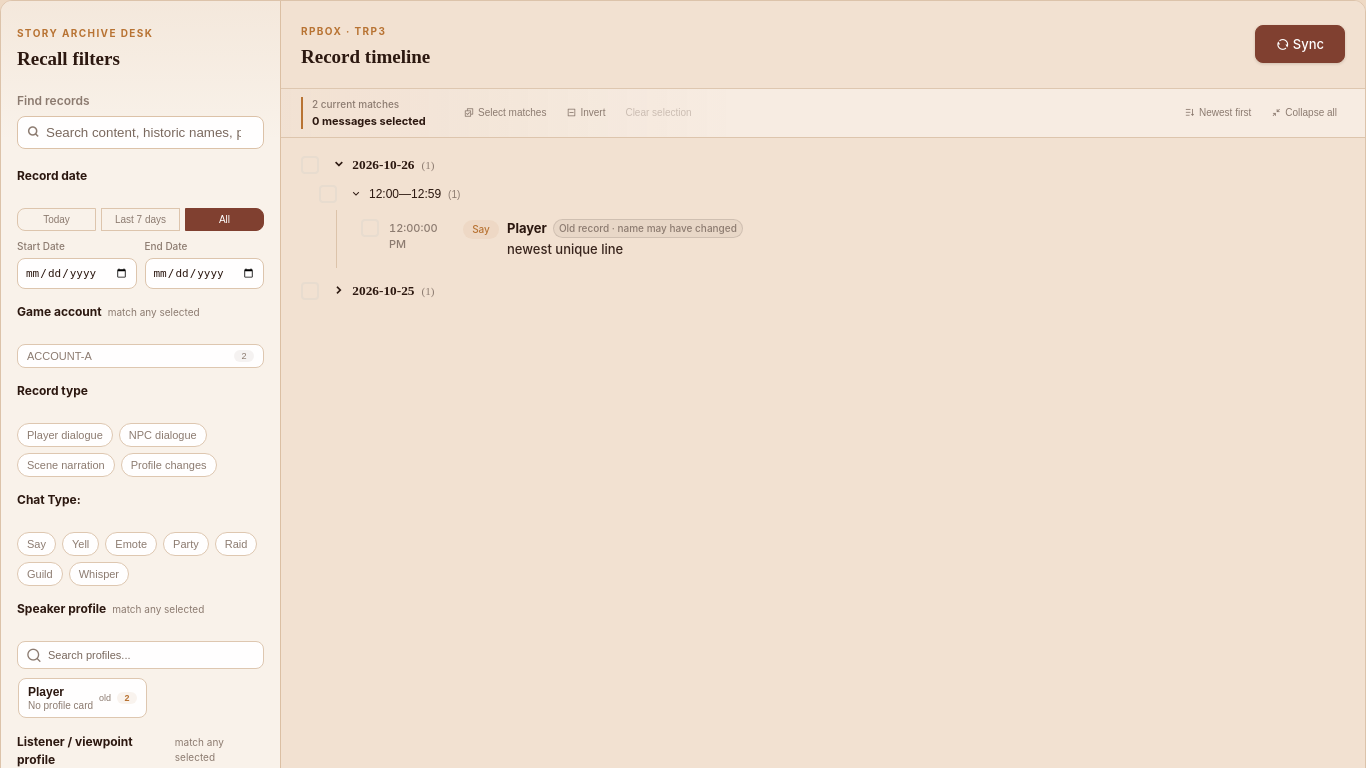
Test: StagingPool › keeps groups collapsed until a filter opens only its first match
The width and height of the screenshot is (1366, 768).
Click the button "Newest first" at (1218, 113), box x1=1177 y1=101 x2=1259 y2=125
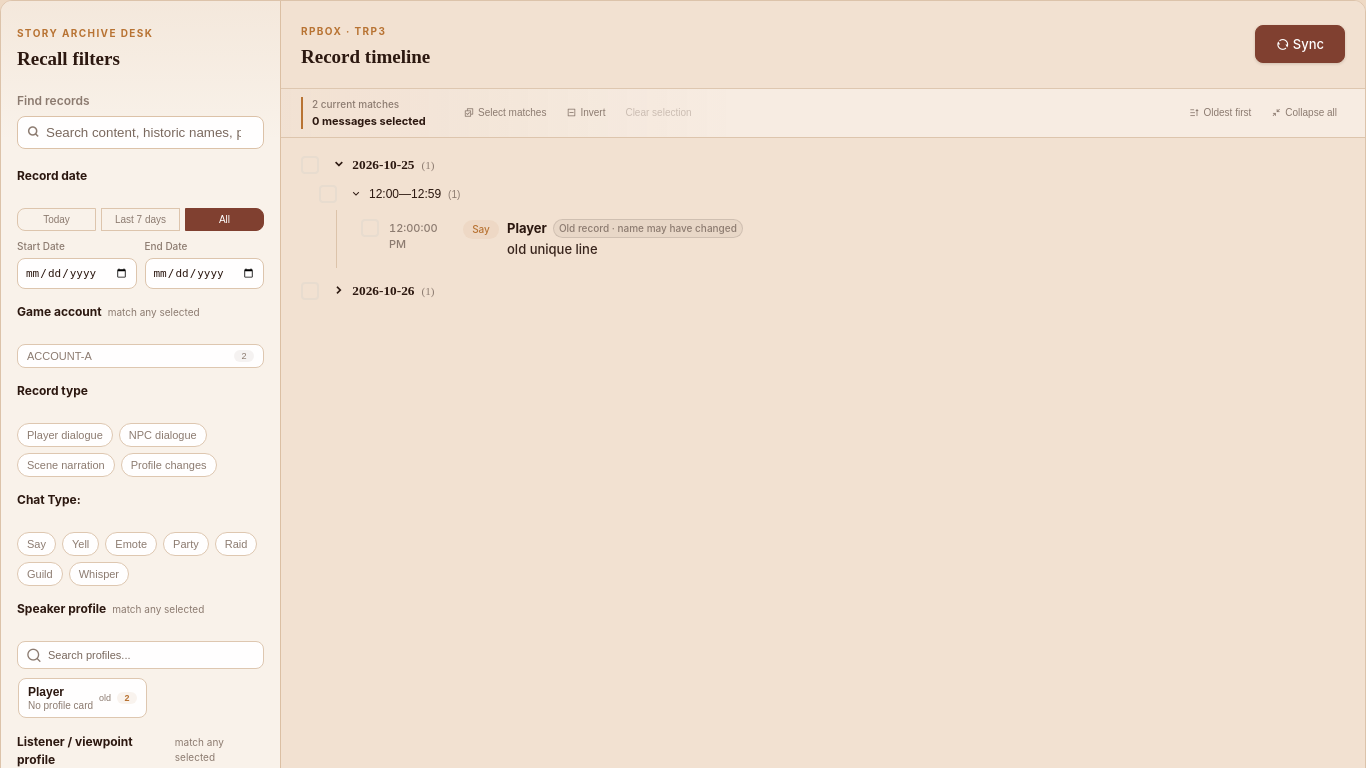
Check: the number of checkboxes with class "record-item" is 1, box x1=361 y1=219 x2=743 y2=257
Check: the text "old unique line" is shown, box x1=507 y1=241 x2=598 y2=257
Click the button "Collapse all" at (1304, 113), box x1=1263 y1=101 x2=1345 y2=125
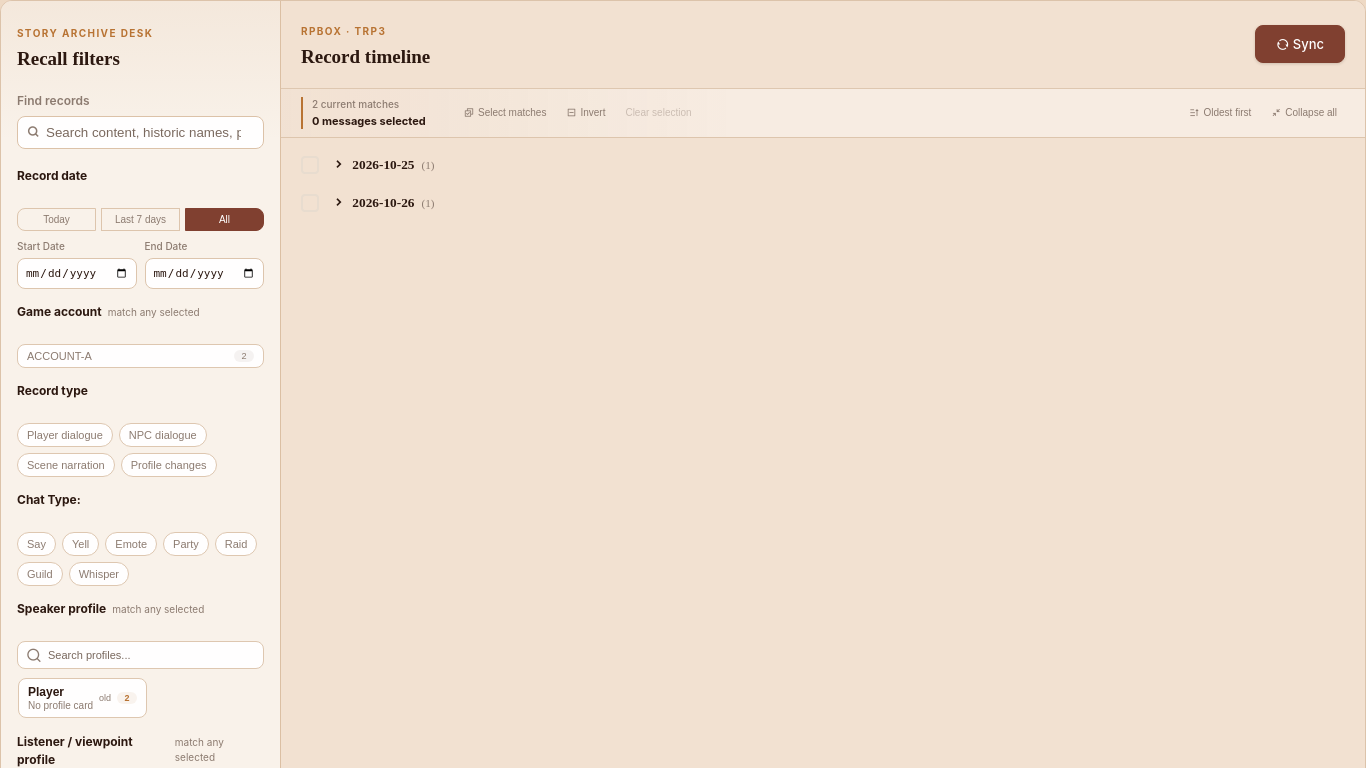
Check: no checkboxes with class "record-item" are shown
Type "old unique line" into the search field labelled "Find records" at (150, 132), box x1=46 y1=116 x2=254 y2=148
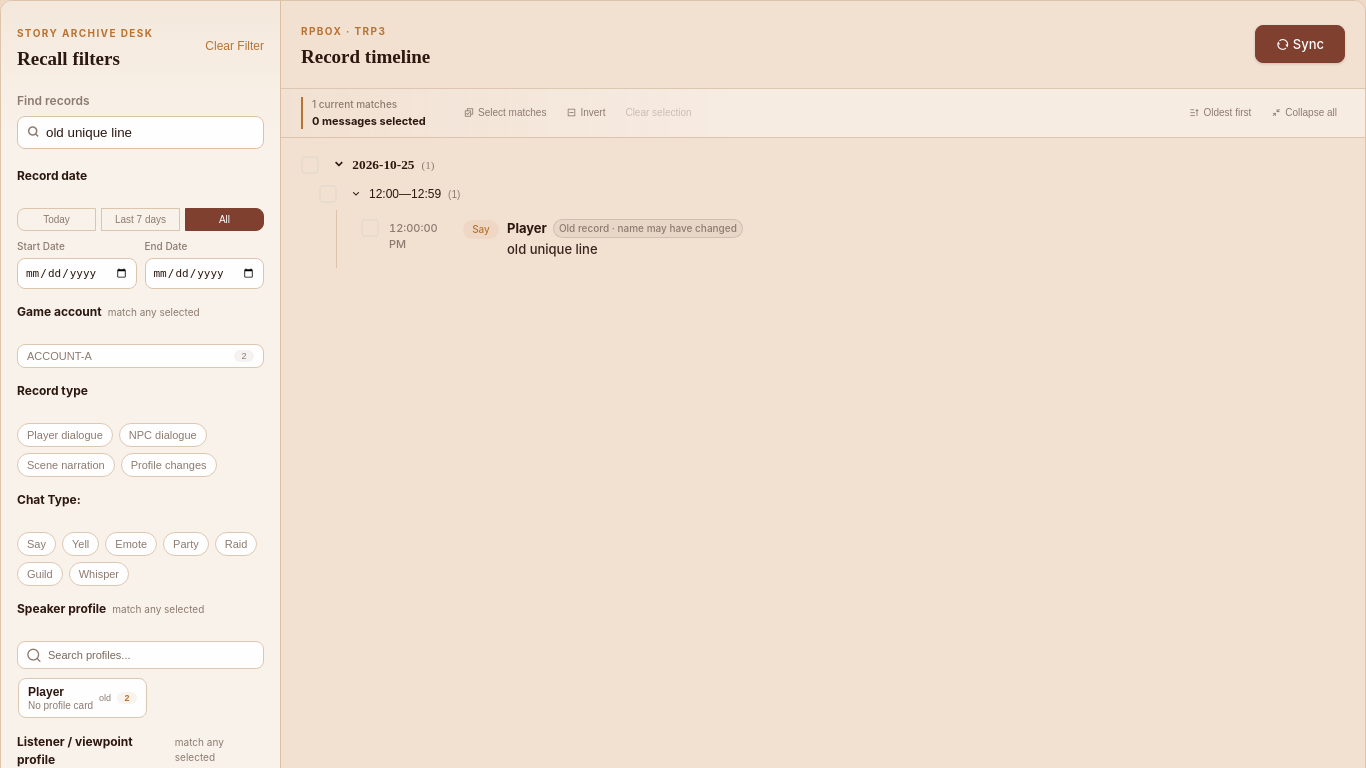
Check: the number of checkboxes with class "record-item" is 1, box x1=361 y1=219 x2=743 y2=257
Check: the text "old unique line" is shown, box x1=507 y1=241 x2=598 y2=257
